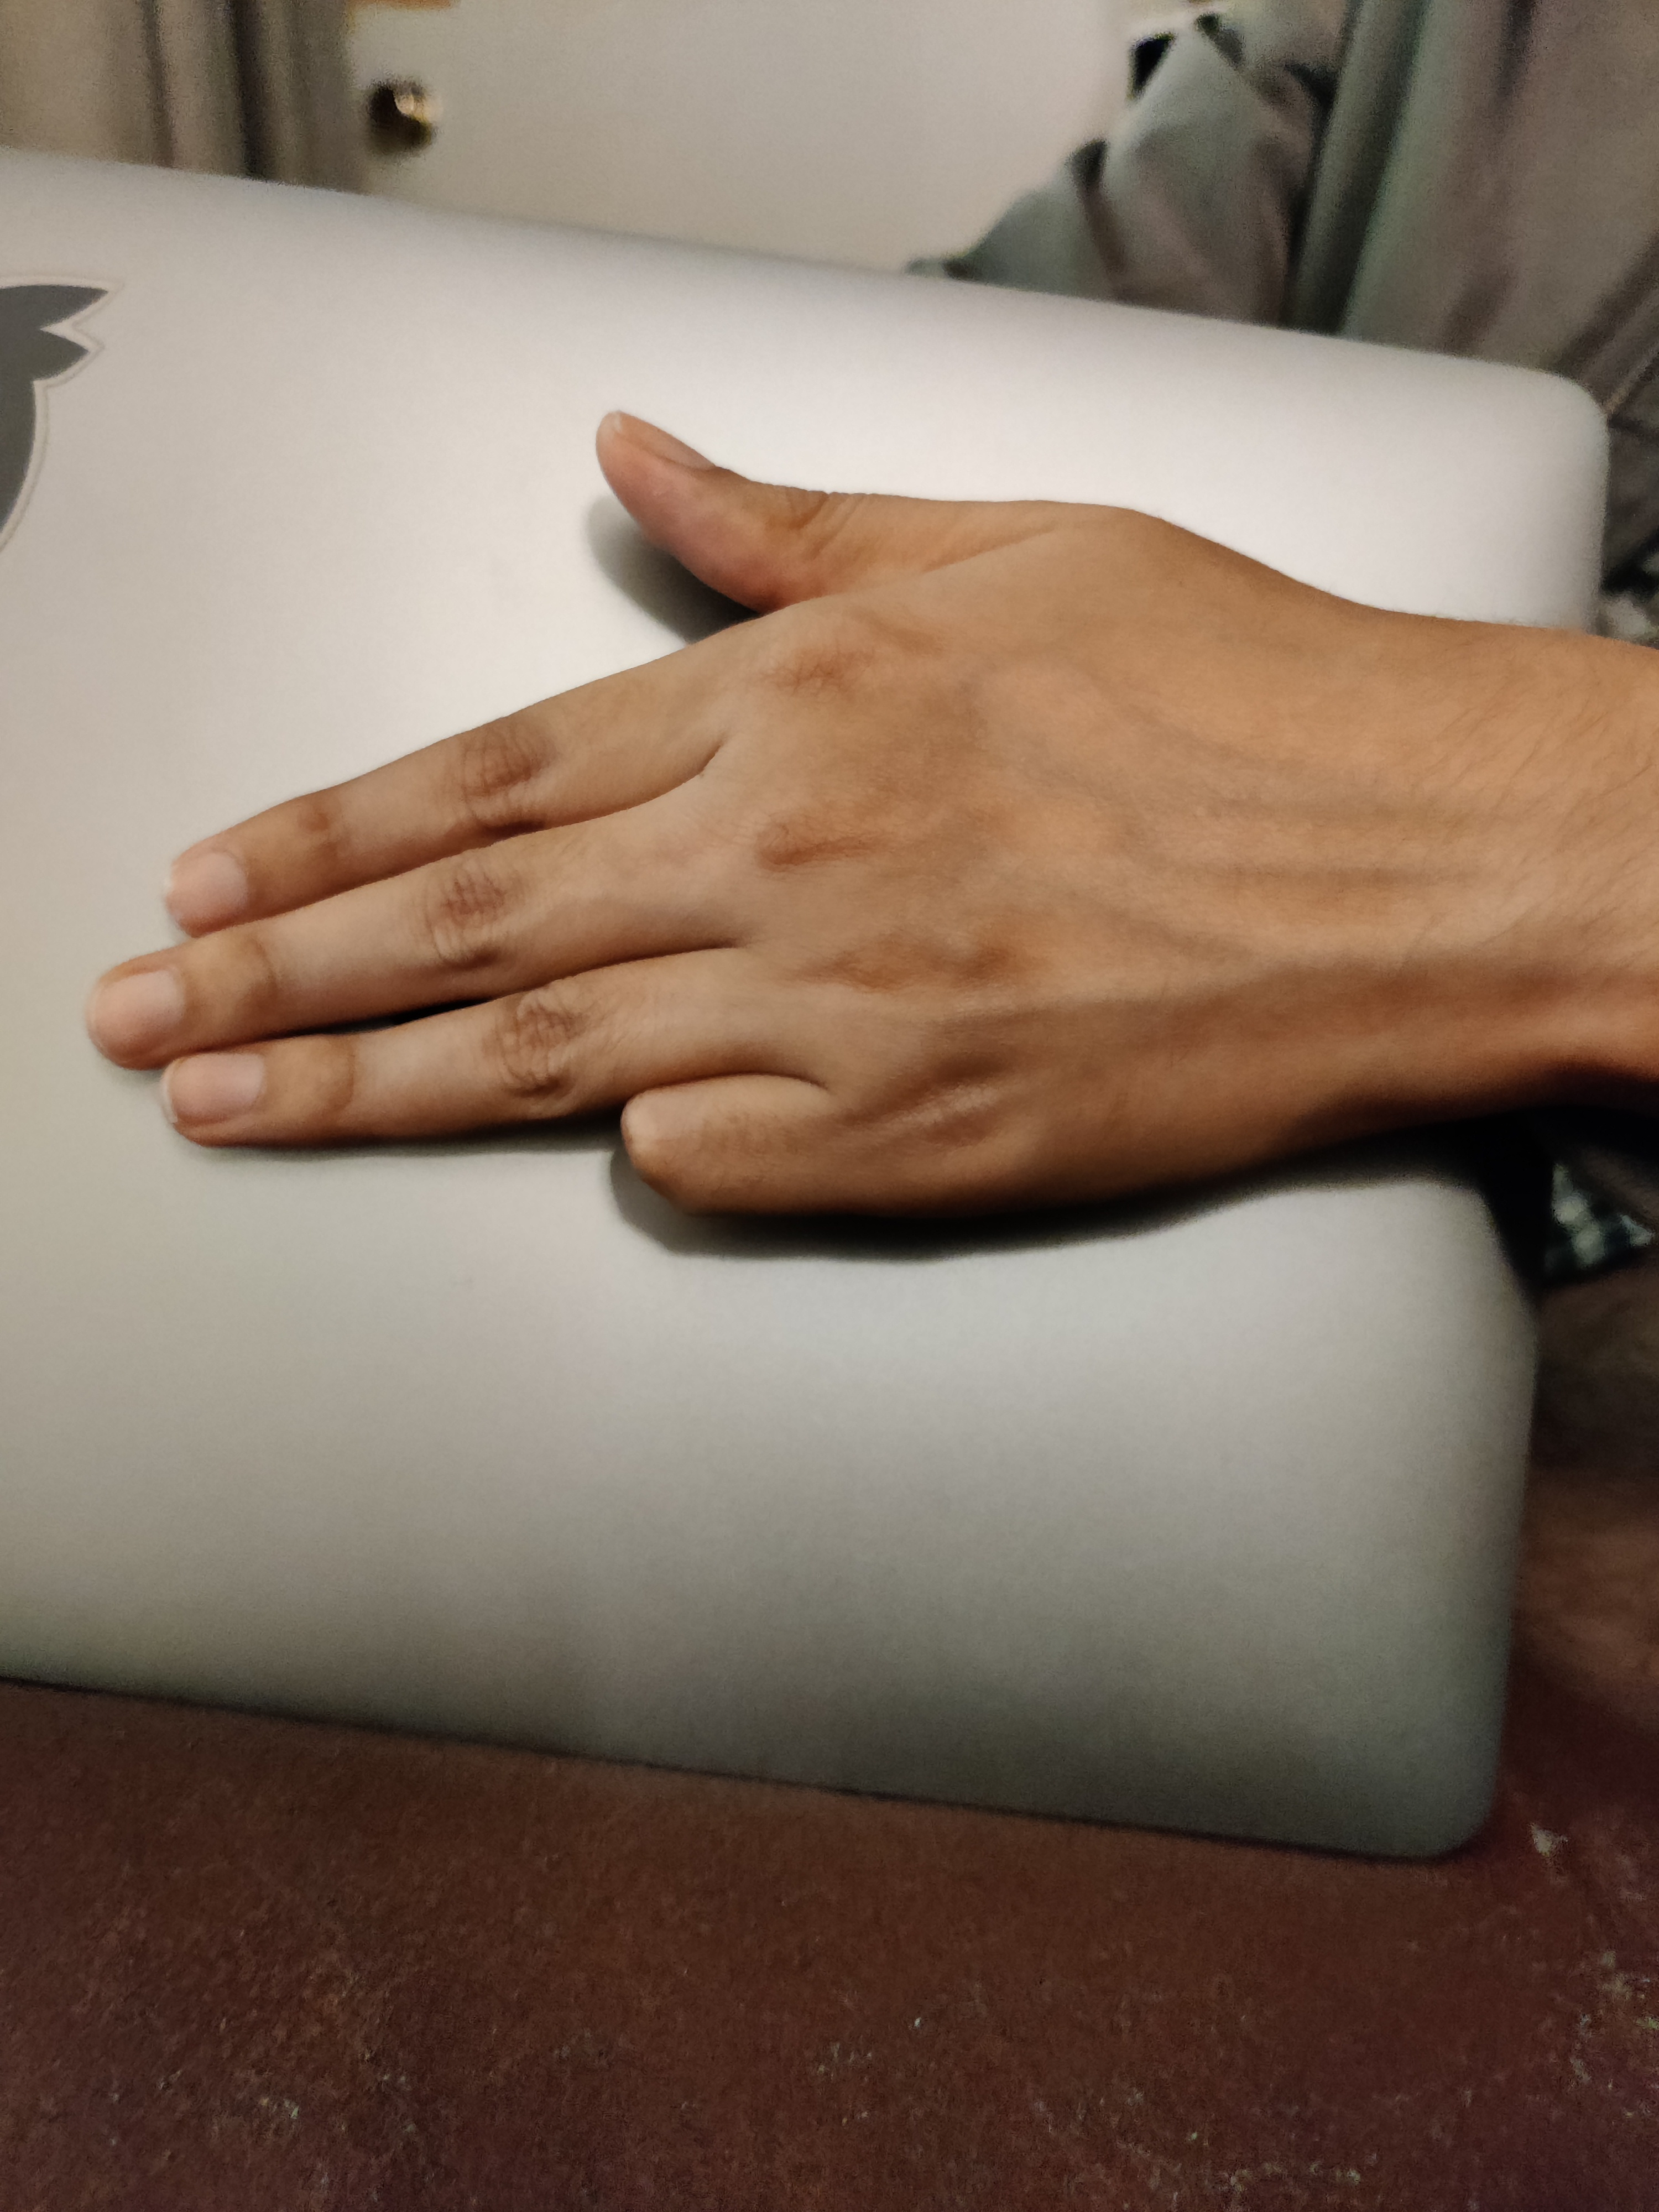right: (94, 327, 1617, 1393)
